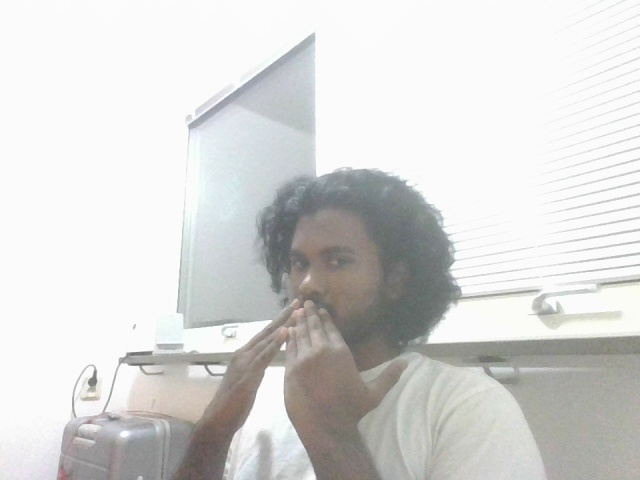Thanks: (193, 298, 423, 424)
